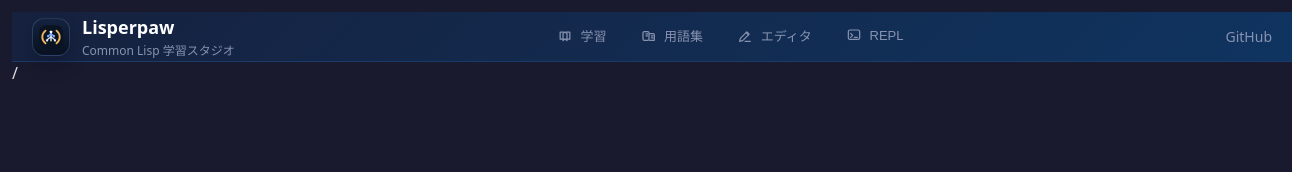
Test case: Header › REPLボタンをクリックするとREPLへ移動する
The width and height of the screenshot is (1292, 172).
Step 1. Click the button "REPL" → (875, 37), box [831,19,918,54]
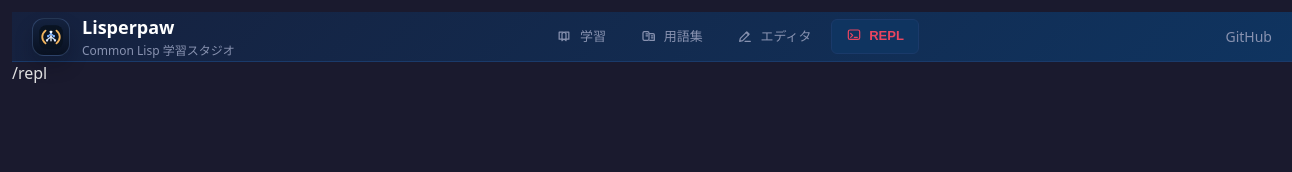
Expected: the text with test id "location-path" reads "/repl", [12,62,47,84]
